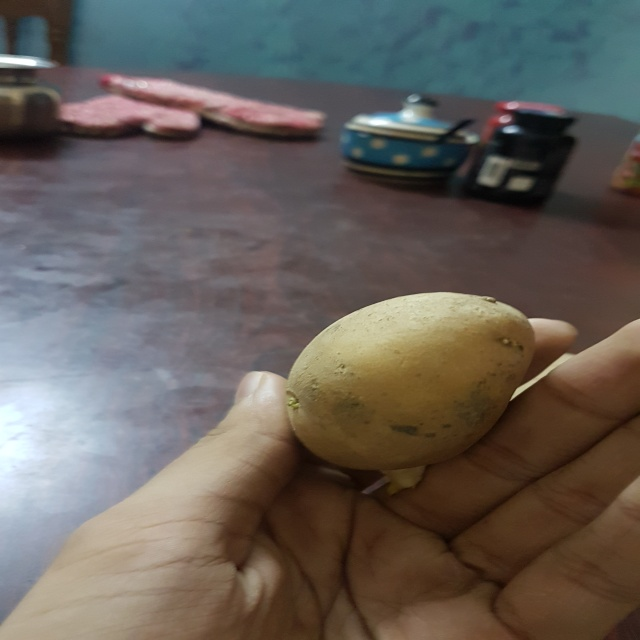potato: (258, 273, 550, 490)
